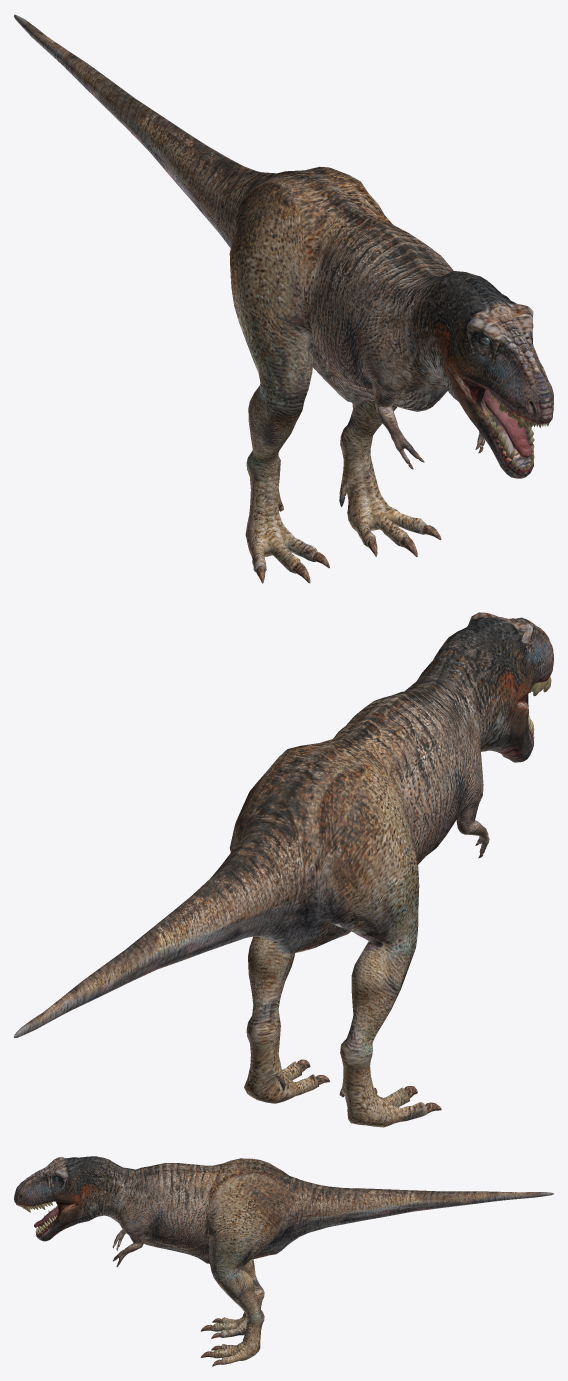
File: Tyrannosaurus.glb
3 renders of one model, top to bottom at view 1: azimuth 30°, elevation 25°; view 2: azimuth 150°, elevation 25°; view 3: azimuth 270°, elevation 25°, orthographic. The views are drawn at different scales.
Visible parts, largest first — view 1: TRex_gameres; view 2: TRex_gameres; view 3: TRex_gameres.
Part boxes in pixels (x1,y1,x2,y2): TRex_gameres: (14, 14, 553, 583); TRex_gameres: (14, 612, 553, 1127); TRex_gameres: (14, 1156, 553, 1366).
Bounding box in the file's own units: 1.73 × 3.43 × 8.92.
1 material, 1 textured.
